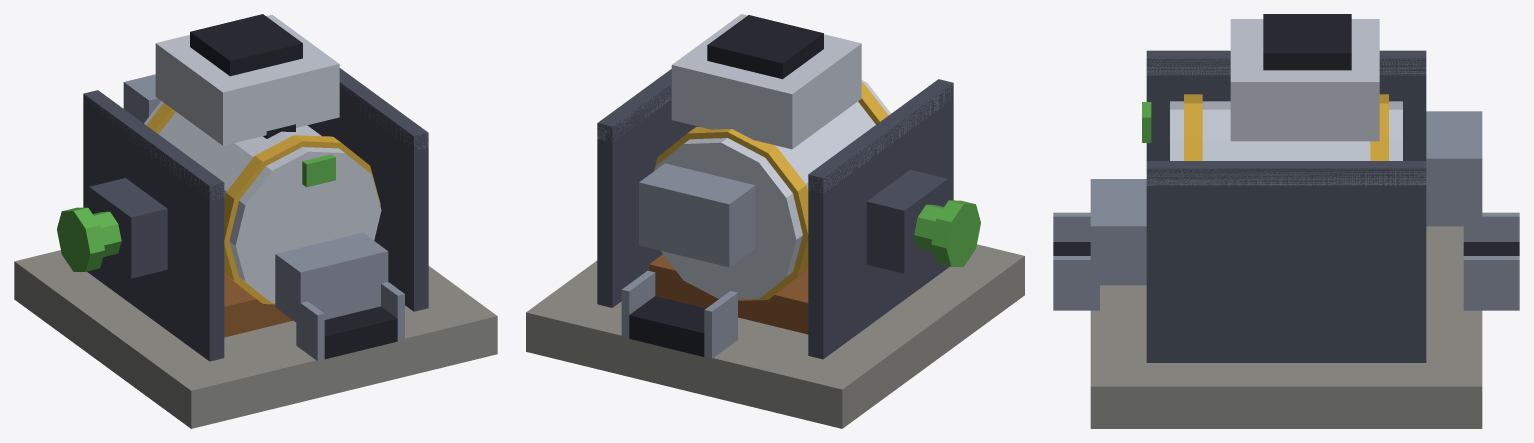
Rendered from cleaner.glb.
3 renders of one model, left to right at view 1: azimuth 30°, elevation 25°; view 2: azimuth 150°, elevation 25°; view 3: azimuth 270°, elevation 25°, orthographic. The views are drawn at different scales.
Visible parts, largest first — view 1: cleaner, spin-y; view 2: cleaner, spin-y; view 3: cleaner, spin-y.
Boxes of the visible parts, x1,y1,x2,y2 form: cleaner: [14, 14, 497, 428]; spin-y: [144, 101, 381, 304]; cleaner: [526, 14, 1024, 428]; spin-y: [653, 80, 890, 300]; cleaner: [1053, 14, 1519, 428]; spin-y: [1170, 94, 1402, 160].
Bounding box in the file's own units: 0.92 × 0.74 × 1.
Materials: 2 (2 with a texture image).
